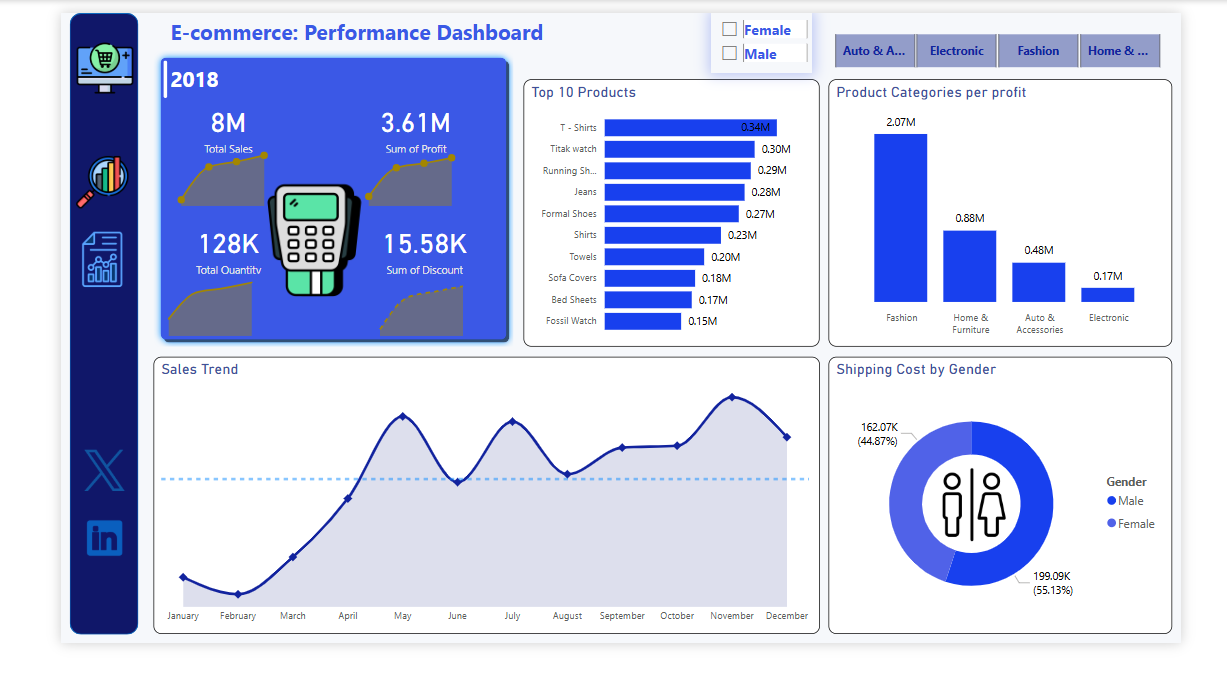

The page's visual inventory and layout, read from the dashboard file:
{"tool":"powerbi","page":{"name":"Page 2","canvas":[1280,720],"ordinal":0},"visuals":[{"type":"shape","box":[10,0,78.6,710],"z":0},{"type":"shape","box":[105.7,42.9,411.4,338.6],"z":1000},{"type":"textbox","box":[120,54.3,77.1,42.9],"z":2000},{"type":"shape","box":[105.7,54.3,27.1,42.9],"z":3000},{"type":"card","fields":{"Values":["E_commerce_Dataset.Total Sales"]},"box":[132.9,97.1,117.1,67.1],"z":4000},{"type":"card","fields":{"Values":["Sum(E_commerce_Dataset.Profit)"]},"box":[347.1,97.1,117.1,67.1],"z":5000},{"type":"card","fields":{"Values":["E_commerce_Dataset.Total Quantity"]},"box":[132.9,235.7,117.1,67.1],"z":6000},{"type":"card","fields":{"Values":["Sum(E_commerce_Dataset.Discount)"]},"box":[357.1,235.7,117.1,67.1],"z":7000},{"type":"lineChart","title":"Sales Trend","fields":{"Y":["Sum(E_commerce_Dataset.Sales)"],"Category":["E_commerce_Dataset.Order_Date.Variation.Date Hierarchy.Month"]},"box":[105.7,392.9,761.4,317.1],"z":8000},{"type":"barChart","title":"Top 10 Products","fields":{"Category":["E_commerce_Dataset.Product"],"Y":["Sum(E_commerce_Dataset.Profit)"]},"box":[528.6,75.7,338.6,305.7],"z":9000},{"type":"clusteredColumnChart","title":"Product Categories per profit","fields":{"Category":["E_commerce_Dataset.Product_Category"],"Y":["Sum(E_commerce_Dataset.Profit)"]},"box":[877.1,75.7,392.9,305.7],"z":10000},{"type":"donutChart","title":"Shipping Cost by Gender","fields":{"Y":["Sum(E_commerce_Dataset.Shipping_Cost)"],"Category":["E_commerce_Dataset.Gender"]},"box":[877.1,392.9,392.9,317.1],"z":11000},{"type":"lineChart","fields":{"Y":["Sum(E_commerce_Dataset.Sales)"],"Category":["E_commerce_Dataset.Order_Date.Variation.Date Hierarchy.Quarter"]},"box":[120,144.3,130,81.4],"z":12000},{"type":"lineChart","fields":{"Category":["E_commerce_Dataset.Order_Date.Variation.Date Hierarchy.Quarter"],"Y":["E_commerce_Dataset.Total Quantity"]},"box":[105.7,292.9,130,81.4],"z":13000},{"type":"lineChart","fields":{"Category":["E_commerce_Dataset.Order_Date.Variation.Date Hierarchy.Quarter"],"Y":["Sum(E_commerce_Dataset.Profit)"]},"box":[334.3,144.3,130,81.4],"z":14000},{"type":"lineChart","fields":{"Y":["Sum(E_commerce_Dataset.Discount)"],"Category":["E_commerce_Dataset.Order_Date.Variation.Date Hierarchy.Quarter"]},"box":[347.1,292.9,130,81.4],"z":15000},{"type":"textbox","box":[120,0,495.7,62.9],"z":16000},{"type":"slicer","fields":{"Values":["E_commerce_Dataset.Product_Category"]},"box":[858.6,17.1,421.4,51.4],"z":17000},{"type":"slicer","fields":{"Values":["E_commerce_Dataset.Gender"]},"box":[742.9,0,115.7,68.6],"z":18000},{"type":"image","box":[4.3,25.7,91.4,74.3],"z":19000},{"type":"image","box":[980,507.1,127.1,110],"z":20000},{"type":"image","box":[197.1,185.7,184.3,148.6],"z":21000},{"type":"image","box":[24.3,572.9,51.4,54.3],"z":22000},{"type":"image","box":[15.7,494.3,68.6,57.1],"z":23000},{"type":"image","box":[10,158.6,74.3,70],"z":24000},{"type":"image","box":[4.3,244.3,85.7,74.3],"z":25000}]}

Visuals, with their boxes in screenshot pixels (x1, y1, x2, y2), scaled from the page's 1280x720 canvas onto the 1227x682 screenshot:
shape: region(10, 0, 85, 673)
shape: region(101, 41, 496, 361)
textbox: region(115, 51, 189, 92)
shape: region(101, 51, 127, 92)
card - E_commerce_Dataset.Total Sales: region(127, 92, 240, 156)
card - Sum(E_commerce_Dataset.Profit): region(333, 92, 445, 156)
card - E_commerce_Dataset.Total Quantity: region(127, 223, 240, 287)
card - Sum(E_commerce_Dataset.Discount): region(342, 223, 455, 287)
"Sales Trend" lineChart: region(101, 372, 831, 673)
"Top 10 Products" barChart: region(507, 72, 831, 361)
"Product Categories per profit" clusteredColumnChart: region(841, 72, 1217, 361)
"Shipping Cost by Gender" donutChart: region(841, 372, 1217, 673)
lineChart - Sum(E_commerce_Dataset.Sales) x E_commerce_Dataset.Order_Date.Variation.Date Hierarchy.Quarter: region(115, 137, 240, 214)
lineChart - E_commerce_Dataset.Order_Date.Variation.Date Hierarchy.Quarter x E_commerce_Dataset.Total Quantity: region(101, 277, 226, 355)
lineChart - E_commerce_Dataset.Order_Date.Variation.Date Hierarchy.Quarter x Sum(E_commerce_Dataset.Profit): region(320, 137, 445, 214)
lineChart - Sum(E_commerce_Dataset.Discount) x E_commerce_Dataset.Order_Date.Variation.Date Hierarchy.Quarter: region(333, 277, 457, 355)
textbox: region(115, 0, 590, 60)
slicer - E_commerce_Dataset.Product_Category: region(823, 16, 1226, 65)
slicer - E_commerce_Dataset.Gender: region(712, 0, 823, 65)
image: region(4, 24, 92, 95)
image: region(939, 480, 1061, 585)
image: region(189, 176, 366, 317)
image: region(23, 543, 73, 594)
image: region(15, 468, 81, 522)
image: region(10, 150, 81, 217)
image: region(4, 231, 86, 302)
